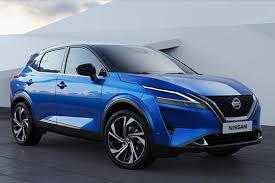Nissan: (15, 47, 261, 146)
